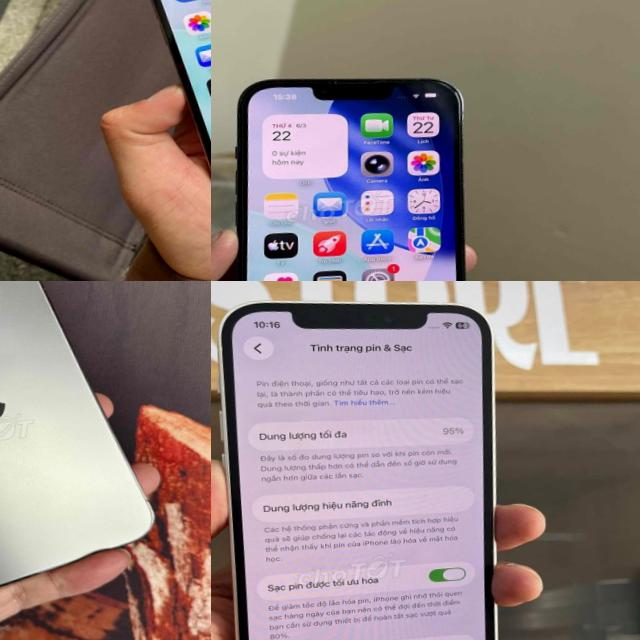gen_12_13: (211, 281, 533, 640), (211, 62, 500, 281), (0, 281, 161, 610)
gen_14: (130, 0, 211, 225)
